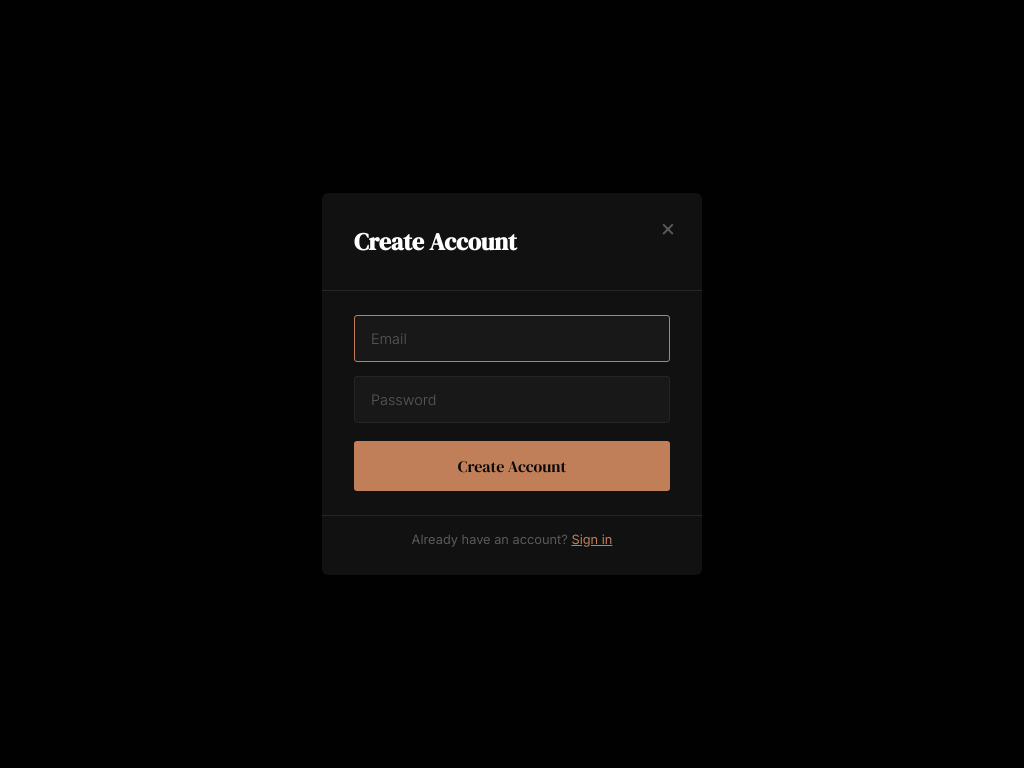
it: AuthModal › form submission — create account › clears error when switching modes
Step 1. Type "existing@example.com" into the field with placeholder "Email" → (512, 338), box x1=354 y1=315 x2=670 y2=362
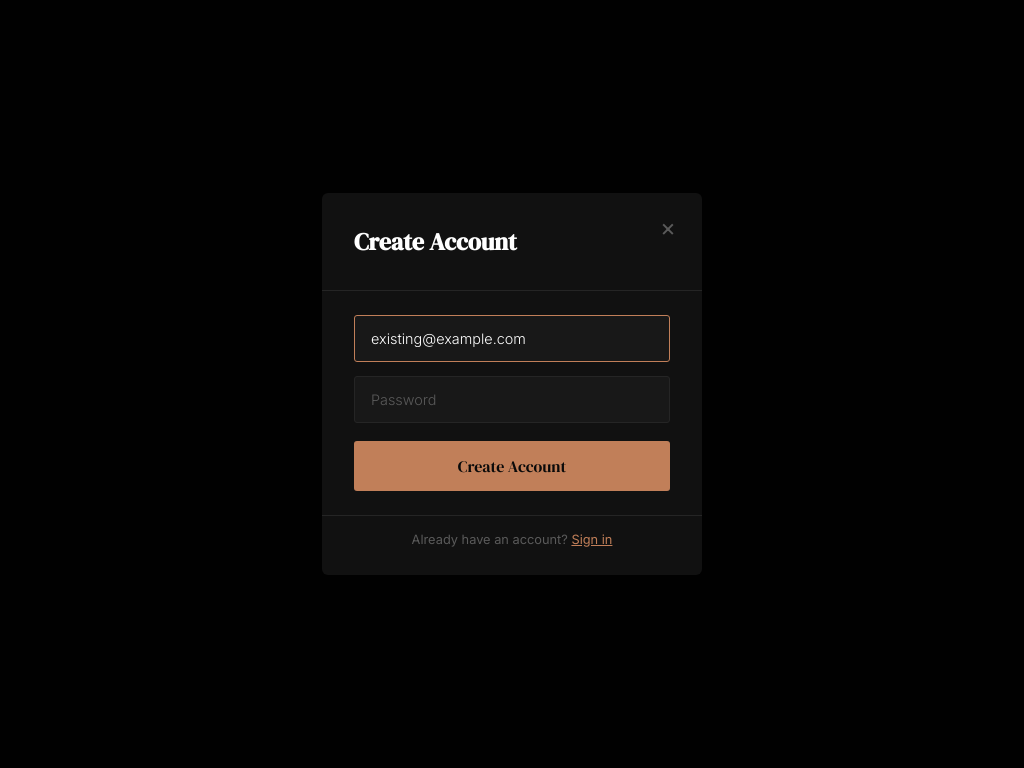
Step 2. Type "password123" into the password field with placeholder "Password" → (512, 400), box x1=354 y1=376 x2=670 y2=423
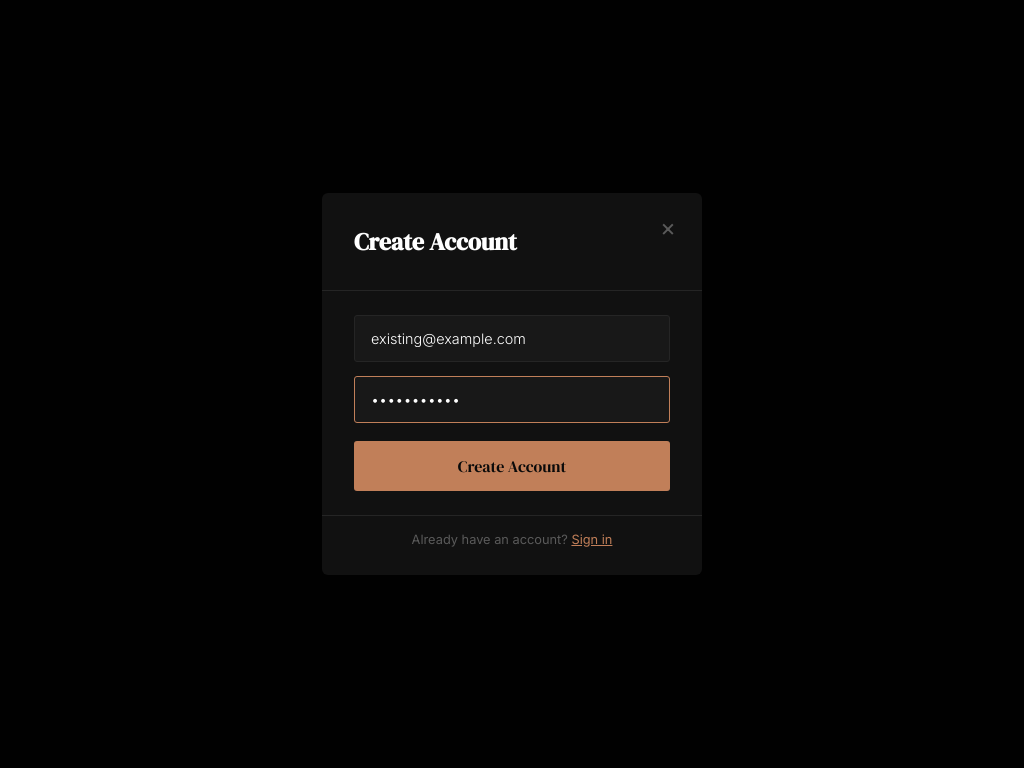
Step 3. Click the button "Create Account" → (512, 466), box x1=354 y1=441 x2=670 y2=491
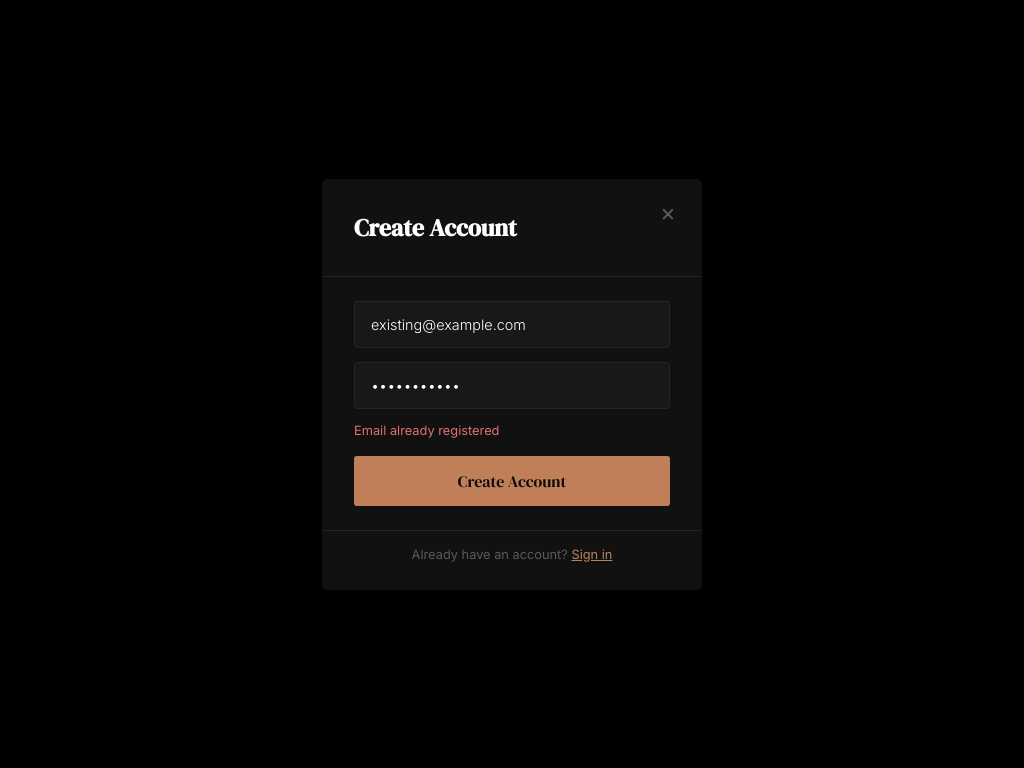
Expected: the text "Email already registered" is shown, x1=354 y1=422 x2=499 y2=438
Step 4. Click the button "Sign in" → (592, 554), box x1=571 y1=546 x2=612 y2=562
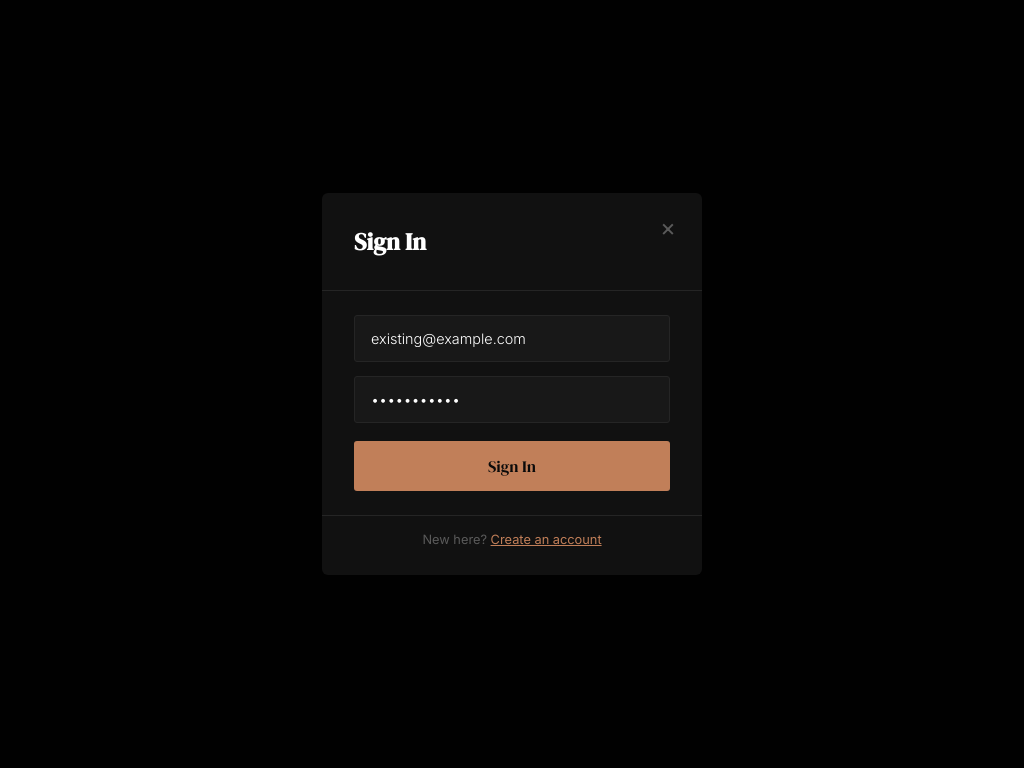
Expected: the text "Email already registered" is gone
